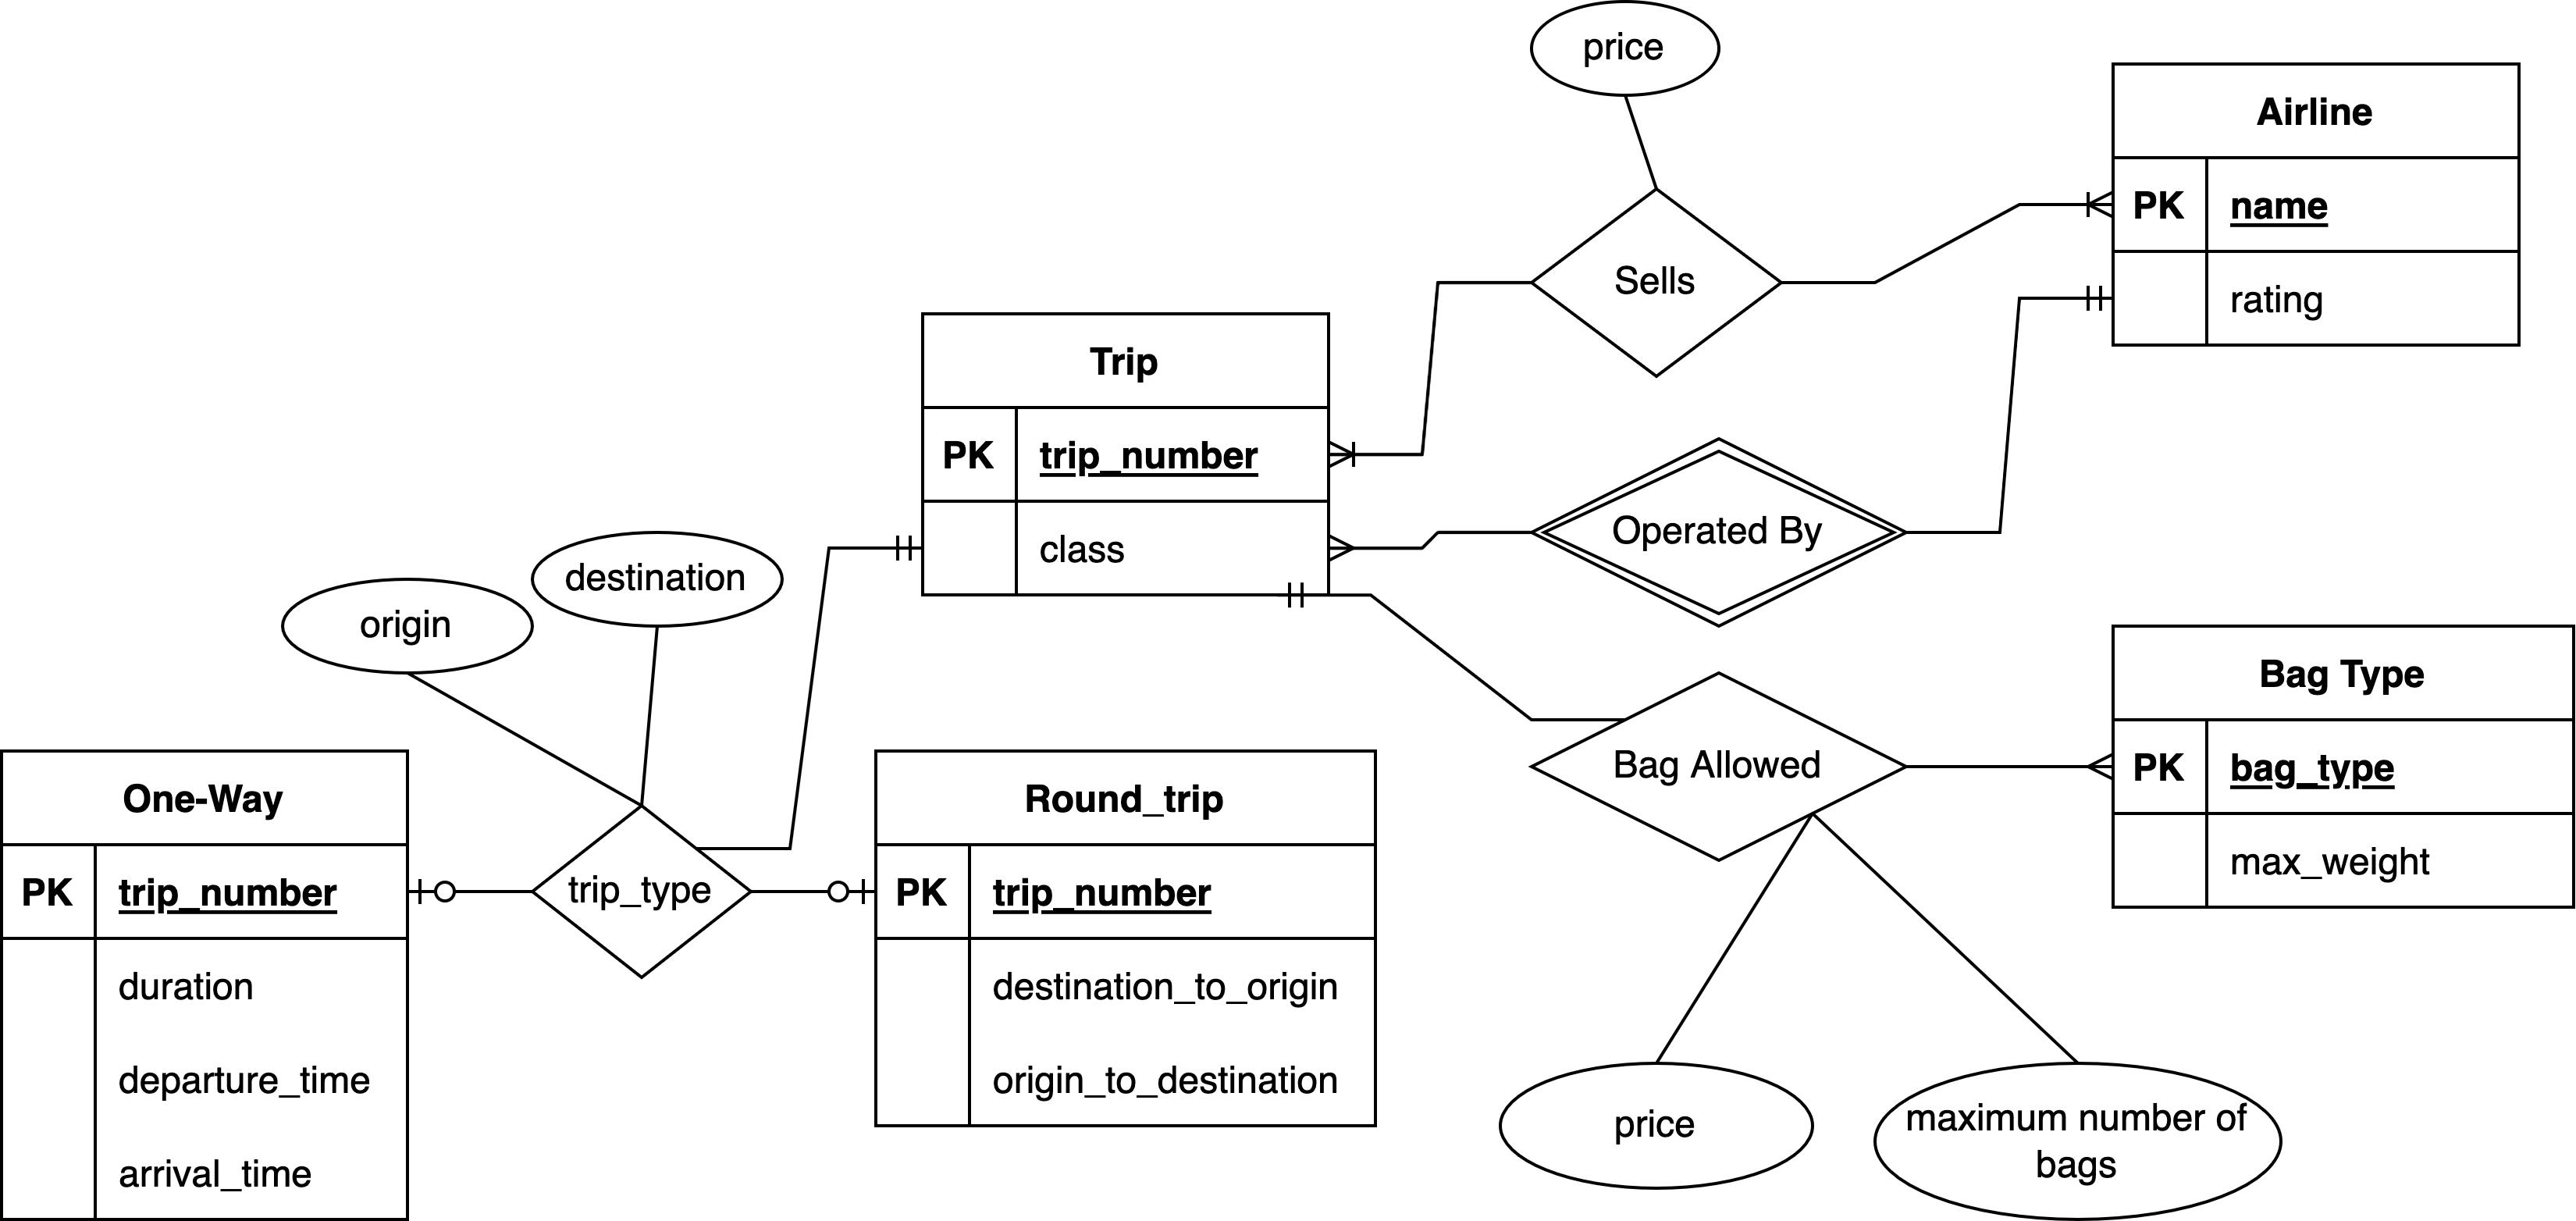attribute: (1870, 1063, 2280, 1221), (1495, 1062, 1819, 1188), (531, 531, 784, 629), (286, 574, 532, 672), (1526, 0, 1720, 99)
entity: (867, 738, 1385, 1131), (0, 746, 412, 1221), (2108, 616, 2576, 907), (2105, 49, 2523, 352), (922, 306, 1336, 595)
relationship: (1526, 675, 1899, 861), (1530, 189, 1791, 376), (541, 809, 749, 981)
weakrelationship: (1528, 442, 1906, 626)
